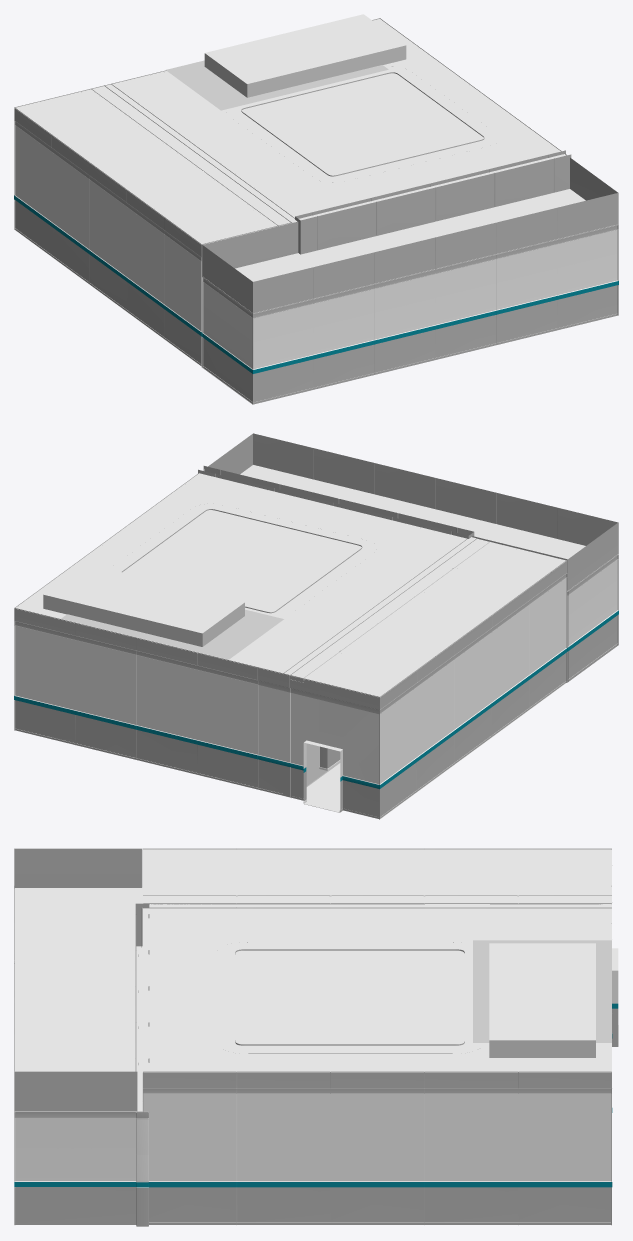
3 renders of one model, top to bottom at view 1: azimuth 30°, elevation 25°; view 2: azimuth 150°, elevation 25°; view 3: azimuth 270°, elevation 25°, orthographic. The views are drawn at different scales.
Parts seen in each view (by area): view 1: SM_H_Building_FutureTech_CtControl_01_InterWall_12; view 2: SM_H_Building_FutureTech_CtControl_01_InterWall_12; view 3: SM_H_Building_FutureTech_CtControl_01_InterWall_12.
Boxes of the visible parts, <box> form: SM_H_Building_FutureTech_CtControl_01_InterWall_12: <box>14,14,618,404</box>; SM_H_Building_FutureTech_CtControl_01_InterWall_12: <box>14,433,618,819</box>; SM_H_Building_FutureTech_CtControl_01_InterWall_12: <box>14,848,618,1226</box>.
Size of the model in its own units: 661 by 580 by 212.
